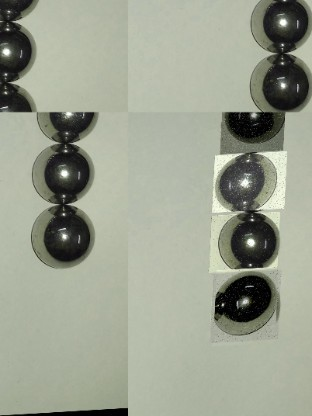ironball: (211, 272, 283, 344), (212, 154, 287, 214), (29, 141, 99, 204), (210, 214, 281, 274), (31, 205, 94, 269), (245, 51, 312, 109), (244, 0, 312, 50), (220, 112, 286, 156), (0, 21, 34, 88), (30, 110, 103, 140), (0, 80, 38, 111), (0, 0, 39, 21)
